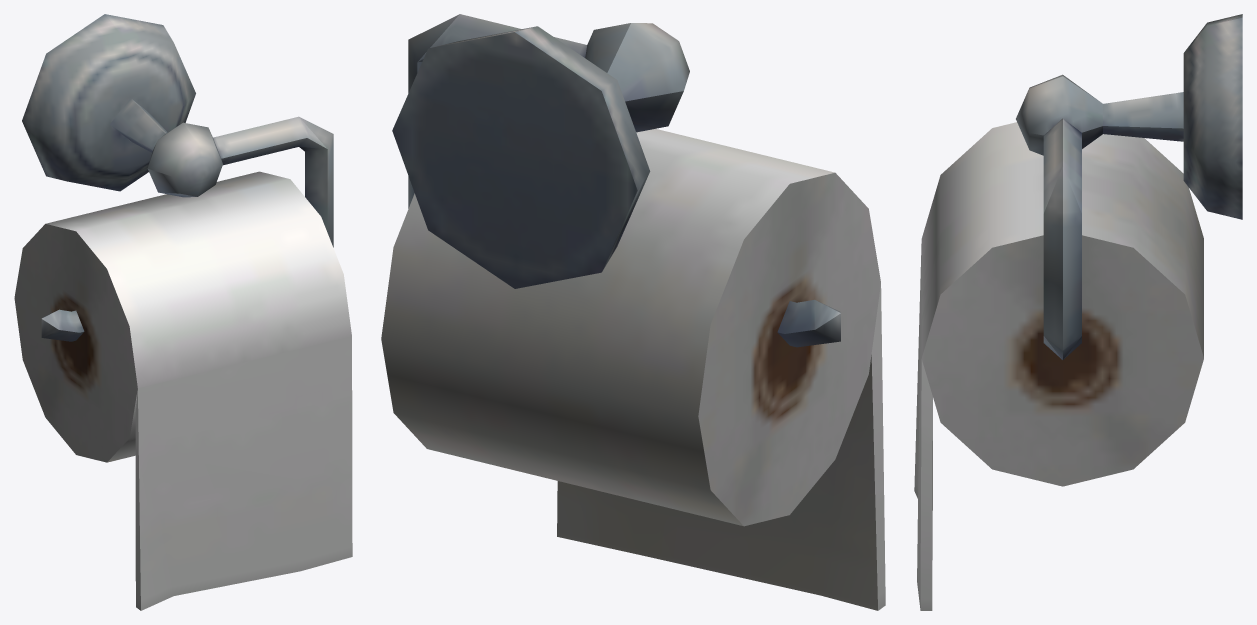
Rendered from portarrollos.fbx.
3 views of the same model, side by side, from view 1: azimuth 30°, elevation 25°; view 2: azimuth 150°, elevation 25°; view 3: azimuth 270°, elevation 25° (orthographic). The views are drawn at different scales.
Visible parts, largest first — view 1: s4studio_mesh_1; view 2: s4studio_mesh_1; view 3: s4studio_mesh_1.
Boxes of the visible parts, box(x1,y1,x2,y2) form: s4studio_mesh_1: box(14, 14, 352, 610); s4studio_mesh_1: box(381, 14, 885, 610); s4studio_mesh_1: box(914, 14, 1242, 610).
Size of the model in its own units: 14.95 by 22.81 by 12.71.
Materials: 1 (1 with a texture image).
